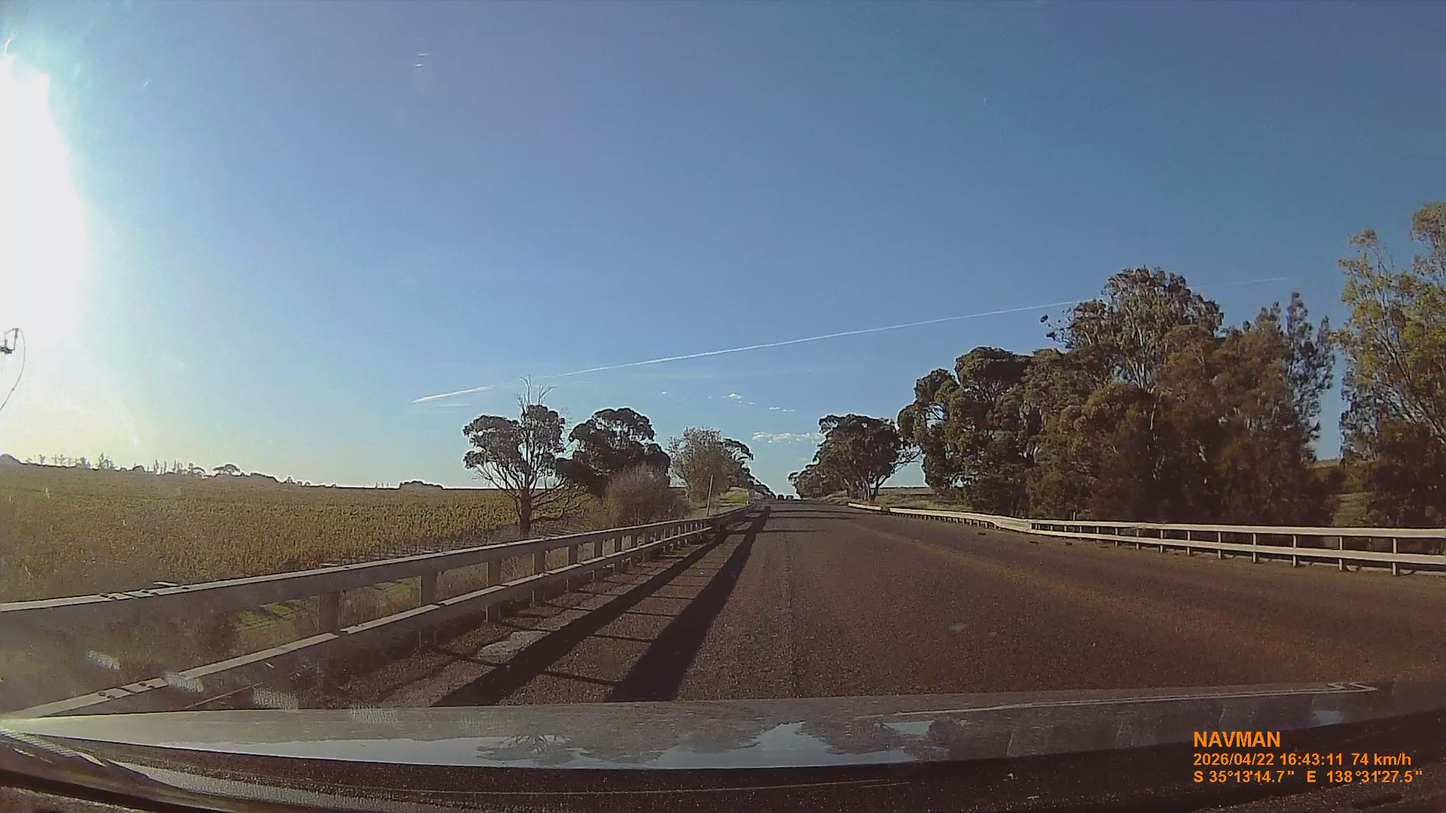road barriers: (0, 510, 754, 628), (889, 508, 1445, 574)
